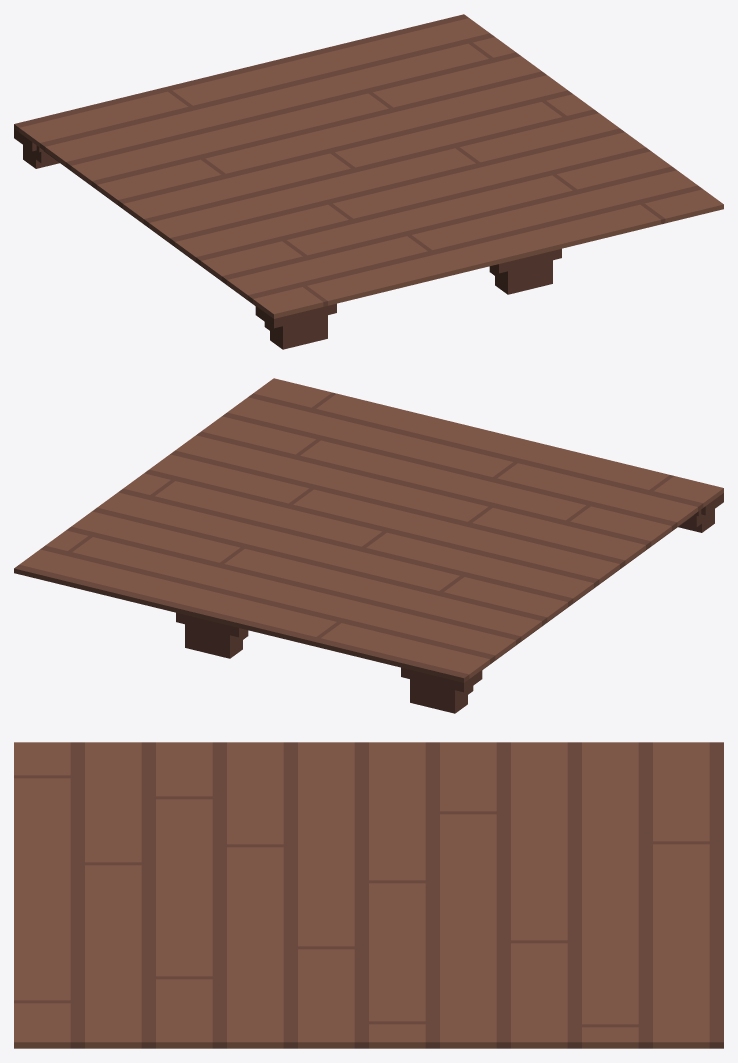
File: Ceiling.obj
The picture shows the model from 3 angles, top to bottom: view 1: azimuth 30°, elevation 25°; view 2: azimuth 150°, elevation 25°; view 3: azimuth 270°, elevation 25°; orthographic projection. The views are drawn at different scales.
Size of the model in its own units: 10 by 0.8 by 10.
1 material, 1 textured.
